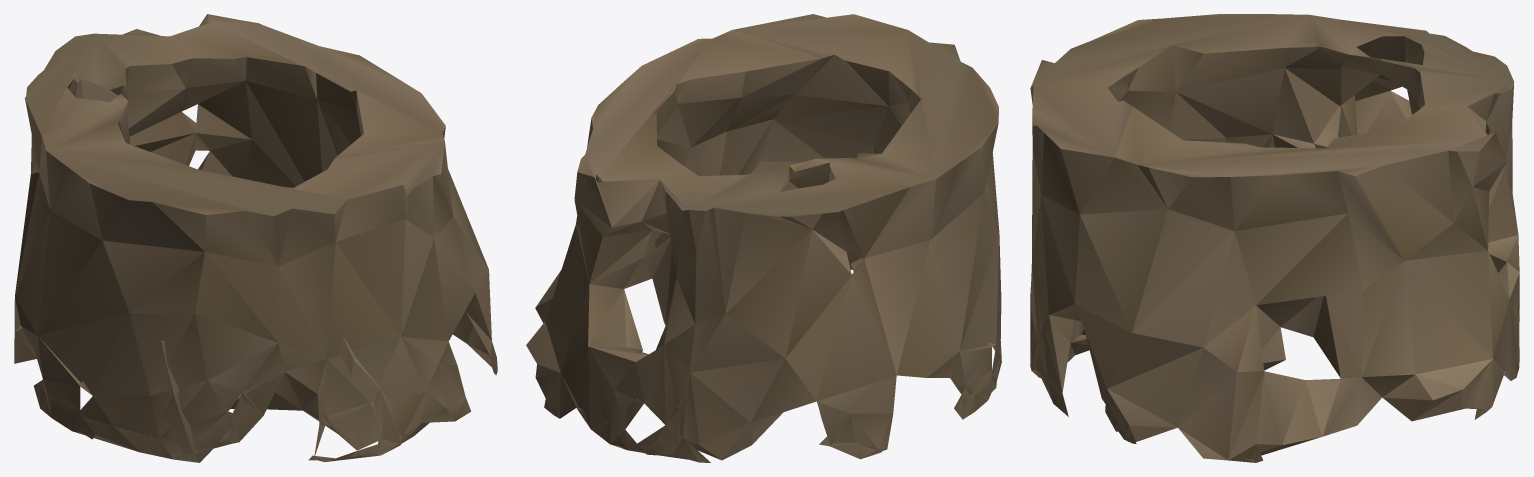
Rendered from yew_stump.glb.
3 renders of one model, left to right at view 1: azimuth 30°, elevation 25°; view 2: azimuth 150°, elevation 25°; view 3: azimuth 270°, elevation 25°, orthographic. The views are drawn at different scales.
Parts seen in each view (by area): view 1: Stump; view 2: Stump; view 3: Stump.
Boxes of the visible parts, x1,y1,x2,y2 form: Stump: (14,14,497,462); Stump: (526,14,1001,462); Stump: (1030,14,1519,462).
Size of the model in its own units: 1.3 by 0.7824 by 1.3.
